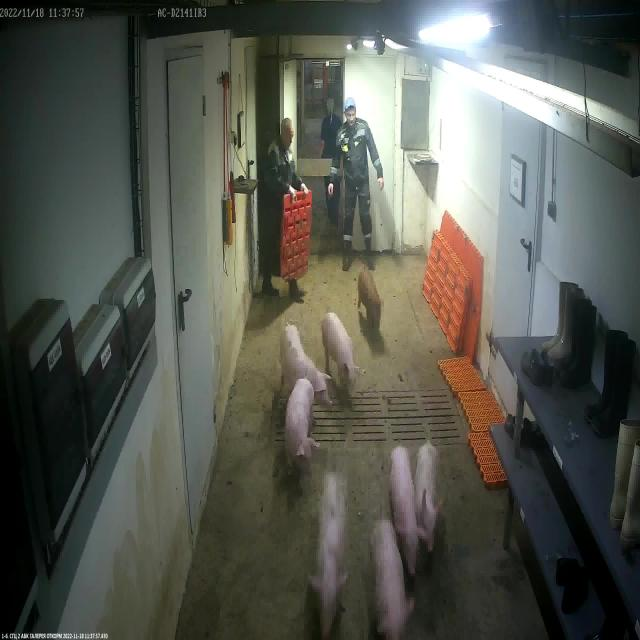pig: (308, 474, 348, 640), (372, 519, 417, 640), (392, 447, 426, 579), (280, 324, 332, 405), (322, 314, 360, 397), (416, 443, 442, 550), (286, 379, 320, 457), (358, 272, 380, 329)
